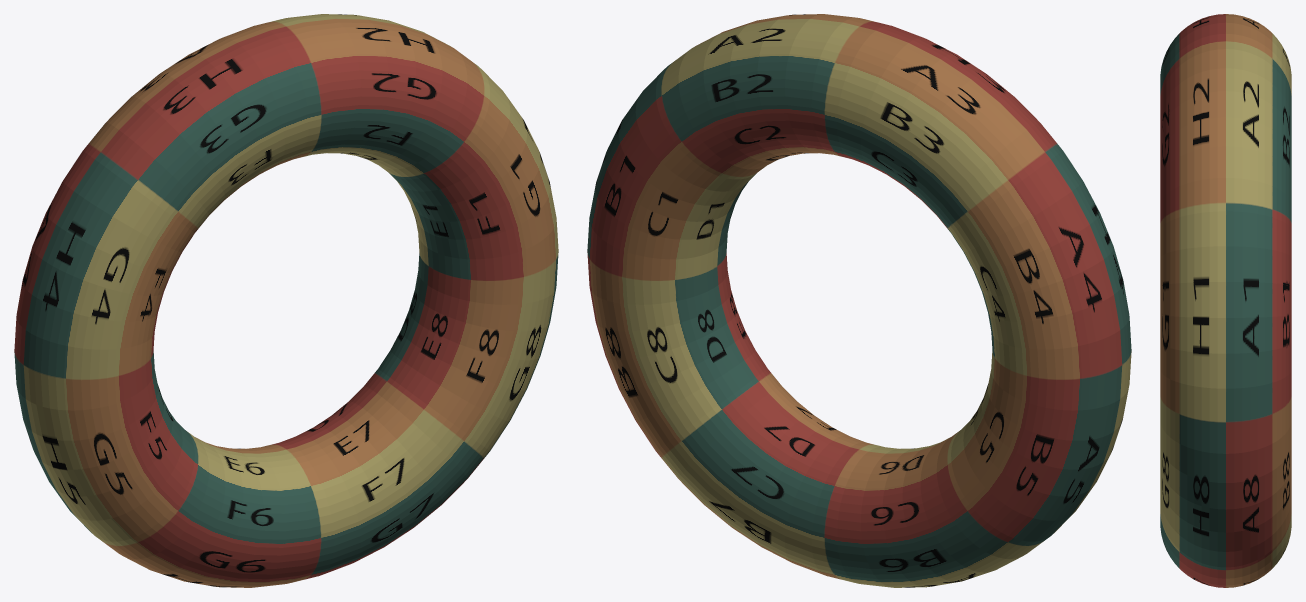
Rendered from texture_torus_R30_r26.glb.
The picture shows the model from 3 angles, left to right: view 1: azimuth 30°, elevation 25°; view 2: azimuth 150°, elevation 25°; view 3: azimuth 270°, elevation 25°; orthographic projection. The views are drawn at different scales.
Visible parts, largest first — view 1: world; view 2: world; view 3: world.
Boxes of the visible parts, <box> form: world: <box>14,14,558,587</box>; world: <box>587,14,1131,587</box>; world: <box>1160,14,1291,587</box>.
Bounding box in the file's own units: 38.93 × 38.86 × 8.92.
Materials: 1 (1 with a texture image).
